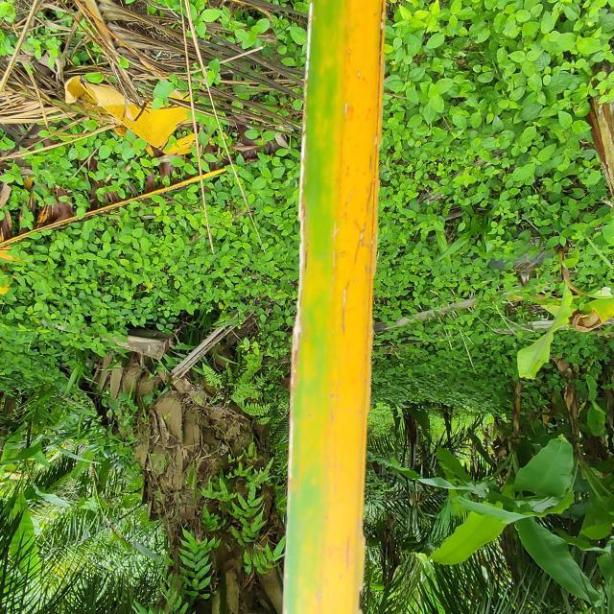Megnesium: (283, 0, 382, 614)
